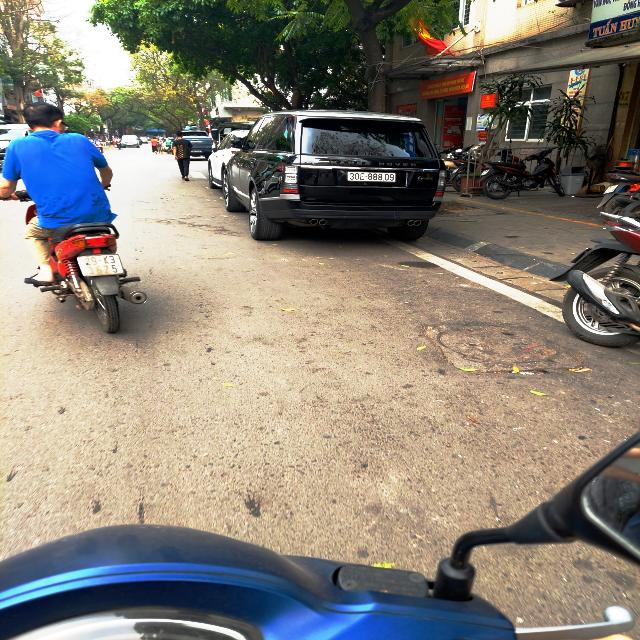license_plate: (76, 254, 127, 278), (347, 172, 397, 183)
